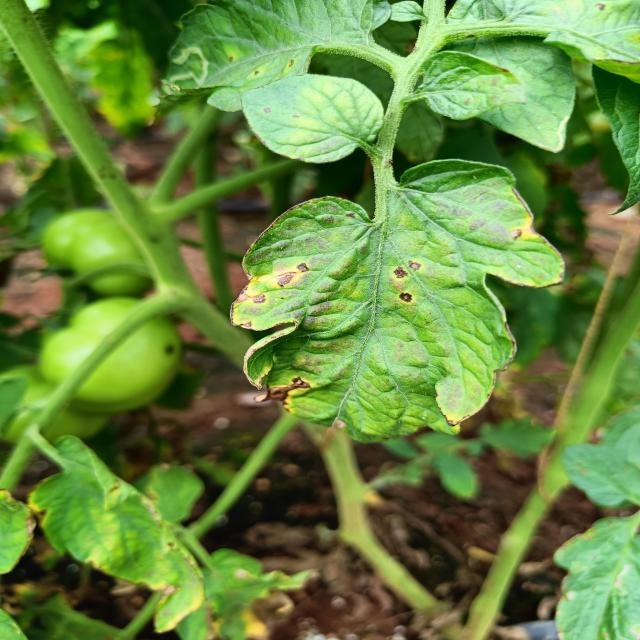Tomato mosaic virus leaf: (225, 196, 572, 450)
